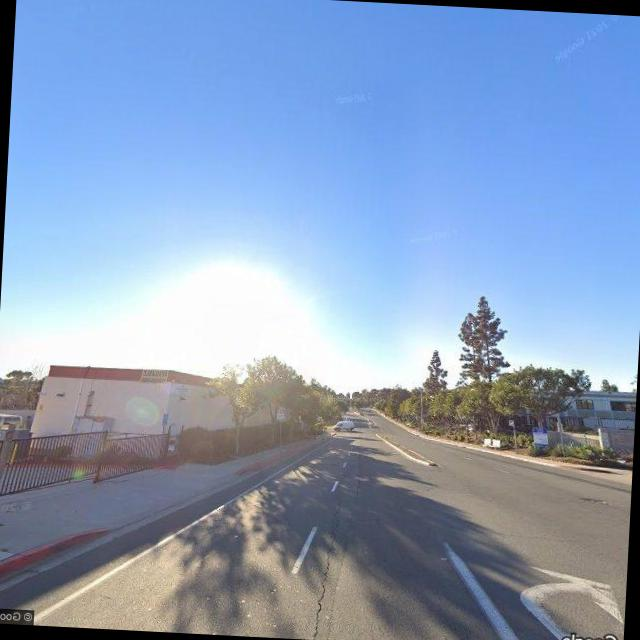pothole: (307, 528, 340, 639)
